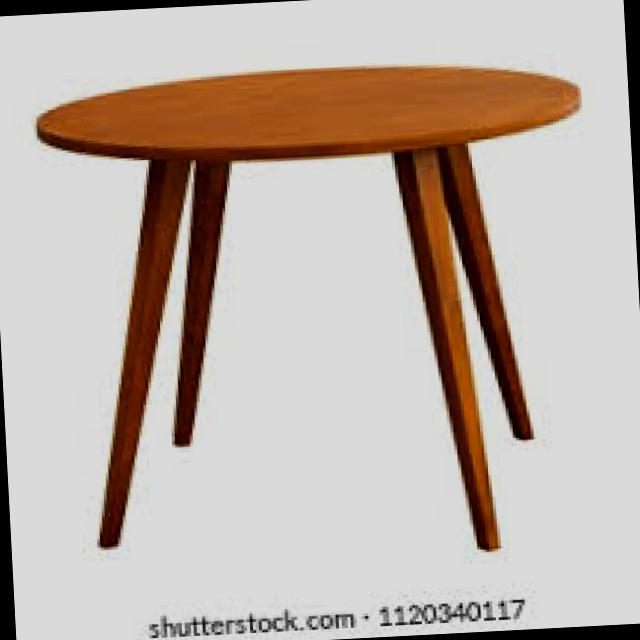obstacle: (36, 22, 619, 594)
